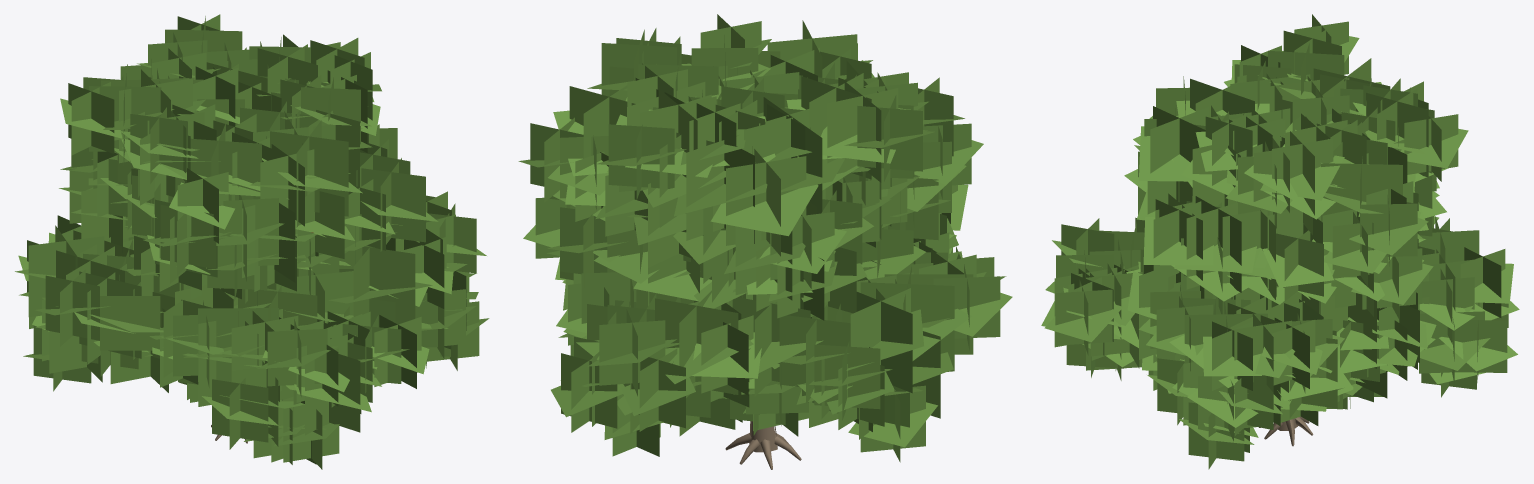
The model's file is pommier_1_f3_jeu.glb.
3 views of the same model, side by side, from view 1: azimuth 30°, elevation 25°; view 2: azimuth 150°, elevation 25°; view 3: azimuth 270°, elevation 25° (orthographic). The views are drawn at different scales.
Visible parts, largest first — view 1: Pommier_T1_f3_Leger; view 2: Pommier_T1_f3_Leger; view 3: Pommier_T1_f3_Leger.
Part boxes in pixels (left/top/right/bottom): Pommier_T1_f3_Leger: left=15, top=14, right=489, bottom=469; Pommier_T1_f3_Leger: left=518, top=14, right=1012, bottom=469; Pommier_T1_f3_Leger: left=1041, top=14, right=1519, bottom=469.
Bounding box in the file's own units: 4.78 × 3.95 × 4.96.
